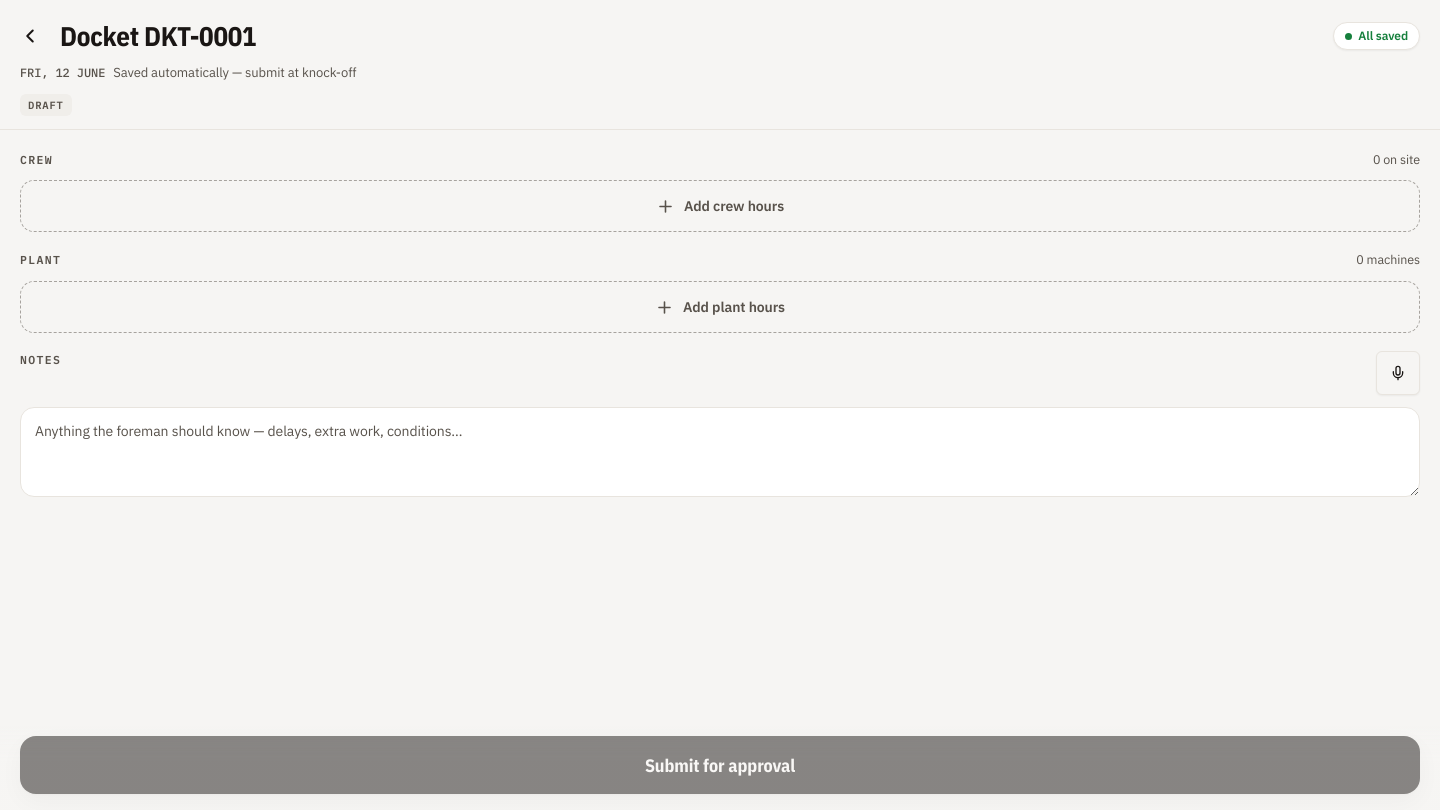
it: subbie shell DocketScreen › labour picker locks pending (non-approved) crew
The image size is (1440, 810).
Click the button "Add crew hours" at (720, 206), box [20,180,1420,232]
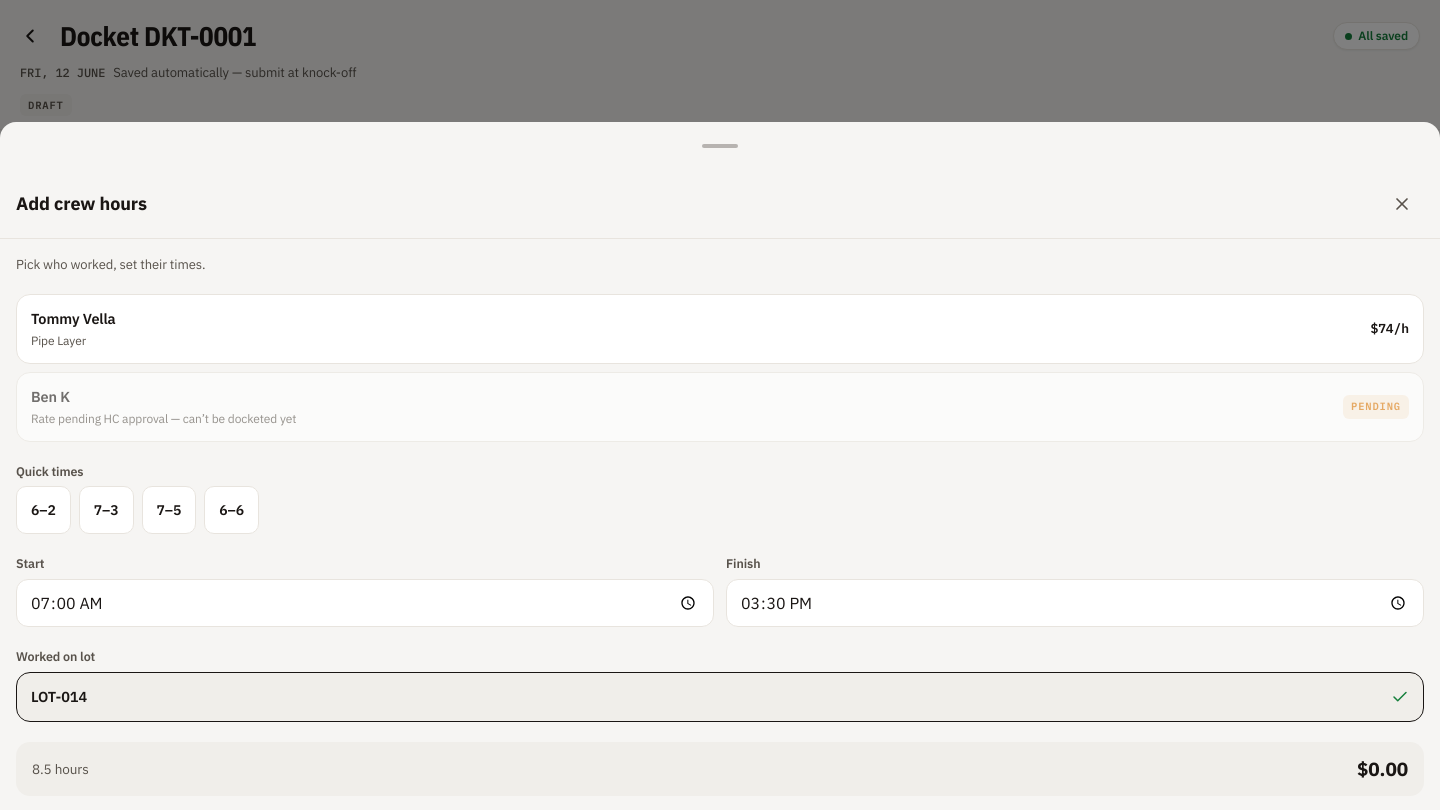
expect the button "Tommy Vella Pipe Layer $74/h" is enabled: met, box [16,294,1424,364]
expect the button "Ben K" is disabled: met, box [16,372,1424,442]
